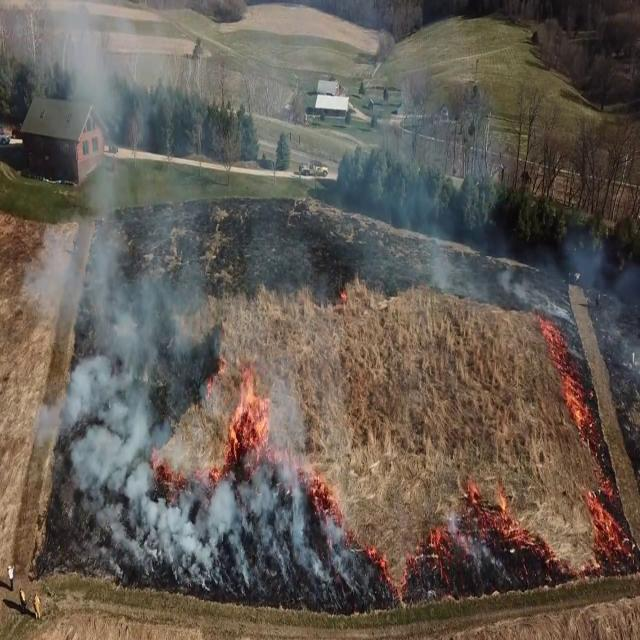Fire: (228, 348, 274, 468)
Smoke: (14, 6, 321, 585)
